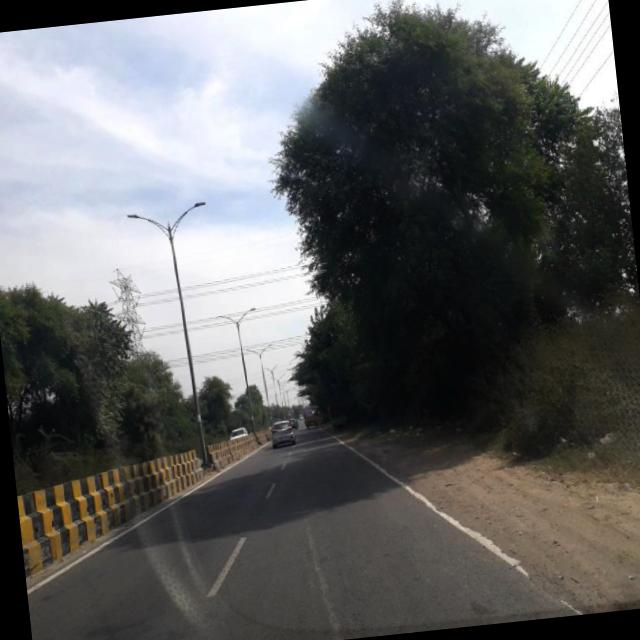pothole: (297, 486, 338, 630)
